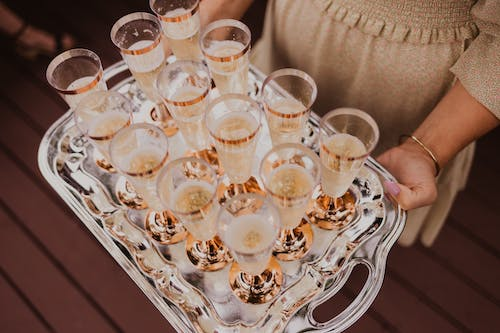alcohol: (108, 121, 191, 245), (305, 108, 381, 231), (155, 157, 232, 272), (156, 59, 221, 181), (215, 193, 283, 306), (258, 142, 322, 262), (110, 11, 174, 120), (203, 91, 263, 207), (259, 67, 318, 171), (198, 17, 251, 110), (74, 89, 137, 161), (45, 48, 108, 116), (149, 0, 203, 75)
